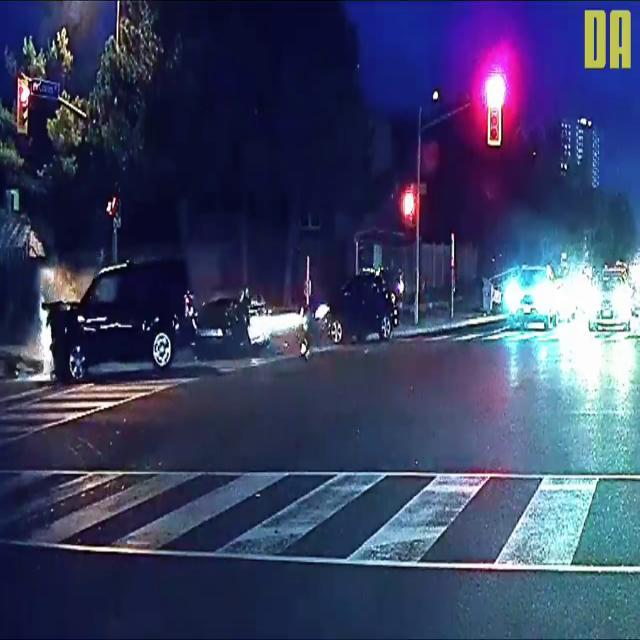multiple_accident: (32, 239, 400, 381)
